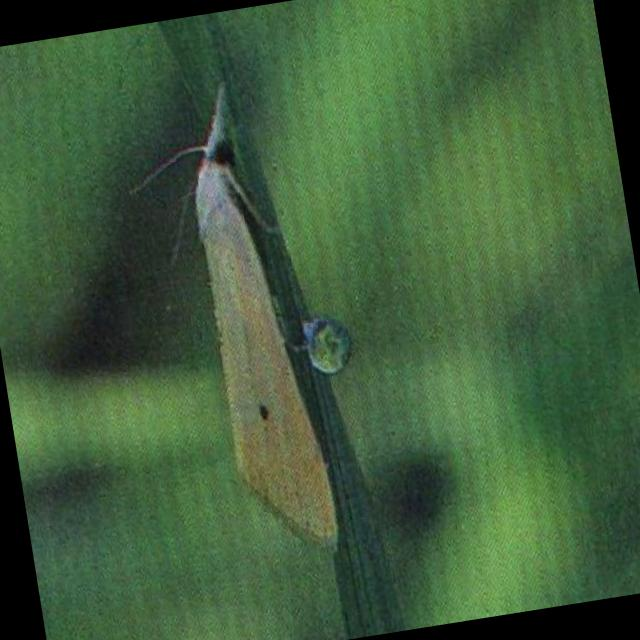stem-borer: (162, 68, 346, 567)
